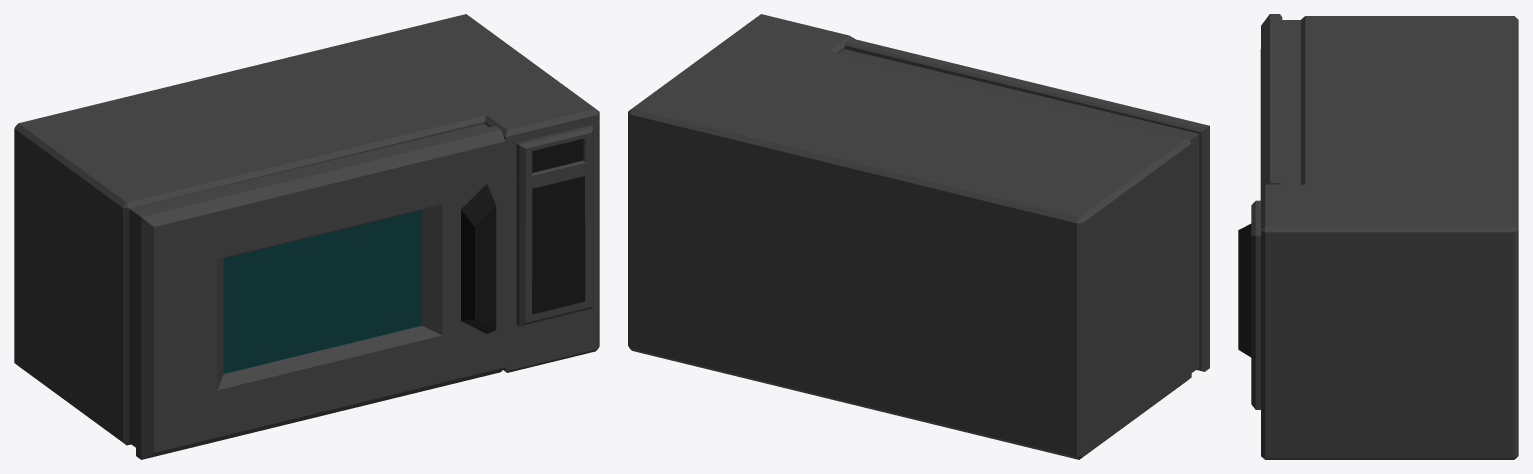
Rendered from hh_microwave.glb.
3 renders of one model, left to right at view 1: azimuth 30°, elevation 25°; view 2: azimuth 150°, elevation 25°; view 3: azimuth 270°, elevation 25°, orthographic. The views are drawn at different scales.
Parts seen in each view (by area): view 1: Microwave, Microwave001; view 2: Microwave, Microwave001; view 3: Microwave, Microwave001.
Part boxes in pixels (box(x1,y1,x2,y2)): Microwave: box(14, 14, 599, 447); Microwave001: box(136, 125, 505, 459); Microwave: box(628, 14, 1199, 459); Microwave001: box(844, 38, 1209, 371); Microwave: box(1251, 16, 1518, 459); Microwave001: box(1238, 14, 1282, 357).
Size of the model in its own units: 0.7554 by 0.3844 by 0.418.
